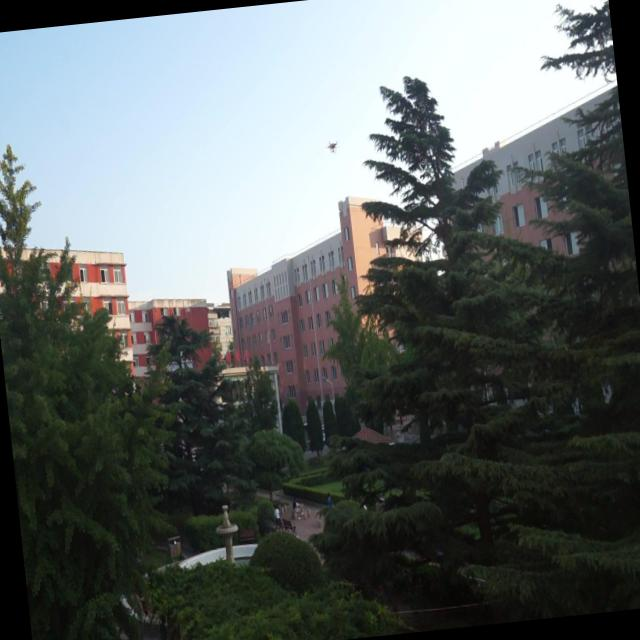drone: (325, 136, 339, 162)
